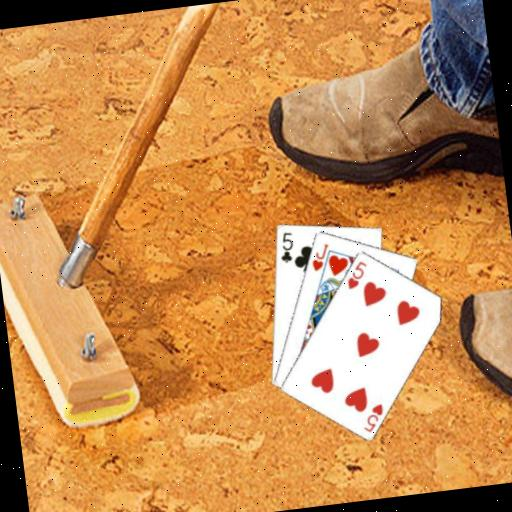5C: (274, 228, 296, 265)
5H: (358, 400, 387, 435), (342, 257, 371, 291)
JH: (307, 240, 334, 273)
